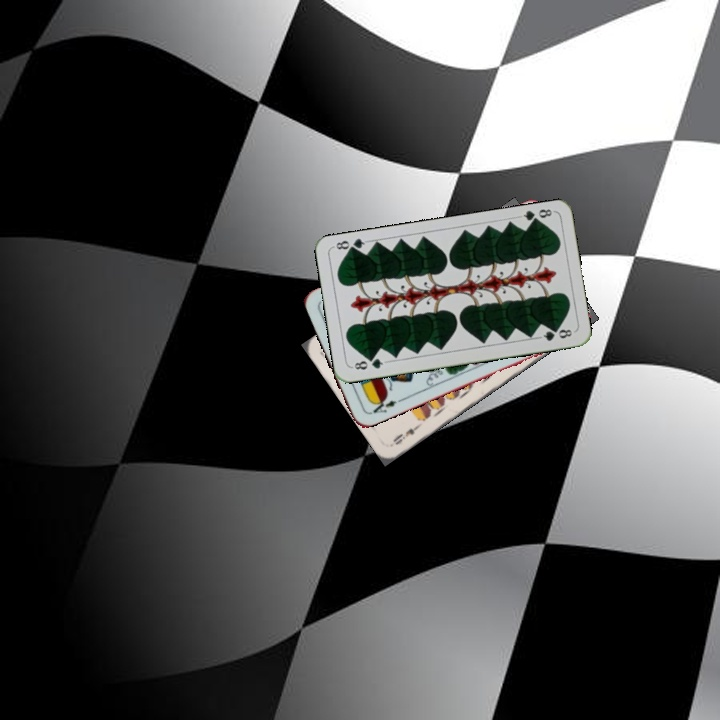E9: (389, 420, 423, 448)
EA: (368, 393, 399, 416)
G8: (515, 205, 556, 227), (348, 354, 389, 372)
